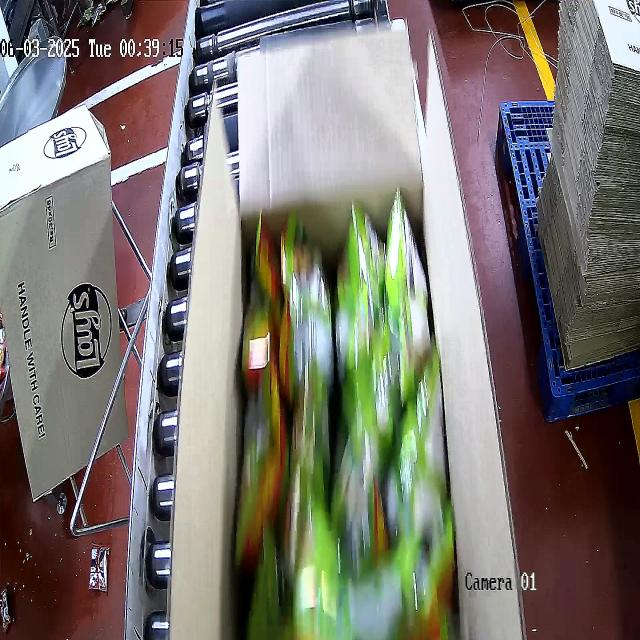YOGURT_HERB: (237, 213, 454, 640)
